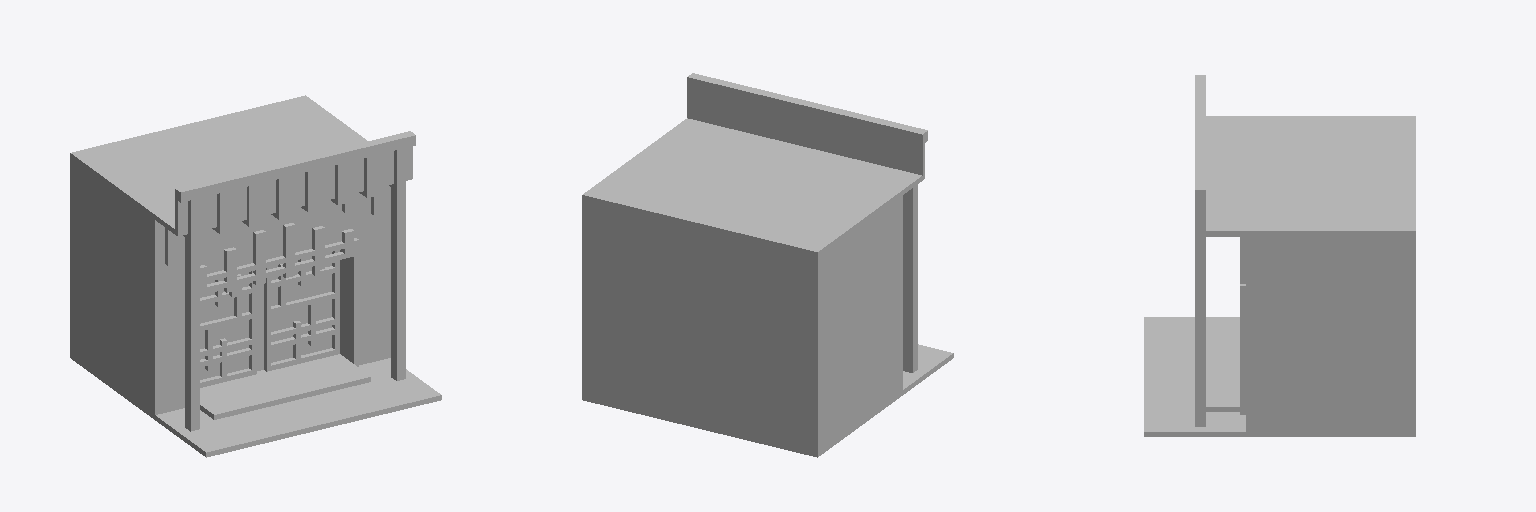
Rendered from villaGreyLowerEntrance-0.obj.
The picture shows the model from 3 angles: view 1: azimuth 30°, elevation 25°; view 2: azimuth 150°, elevation 25°; view 3: azimuth 270°, elevation 25°; orthographic projection.
Visible parts, largest first — view 1: object 1; view 2: object 1; view 3: object 1.
Part boxes in pixels (left/top/right/bottom): object 1: left=70, top=95, right=441, bottom=457; object 1: left=582, top=73, right=953, bottom=457; object 1: left=1144, top=75, right=1415, bottom=436.
Size of the model in its own units: 4.8 by 4.8 by 4.8.